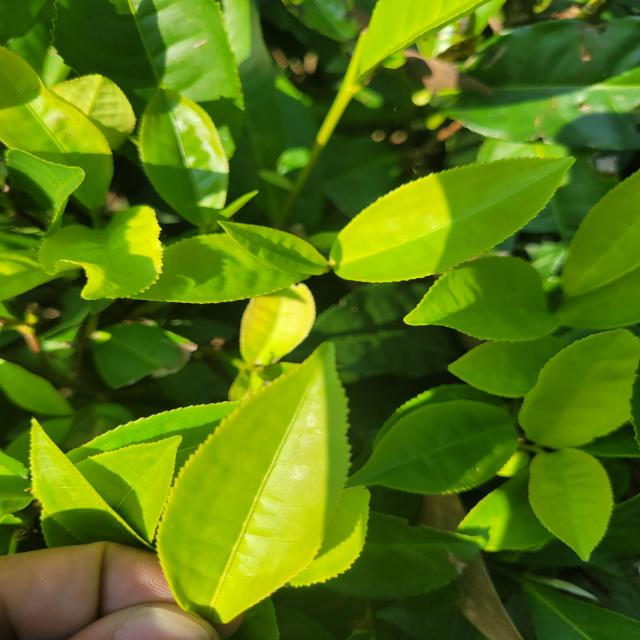Catagory A(1-2 days): (124, 335, 371, 632)
